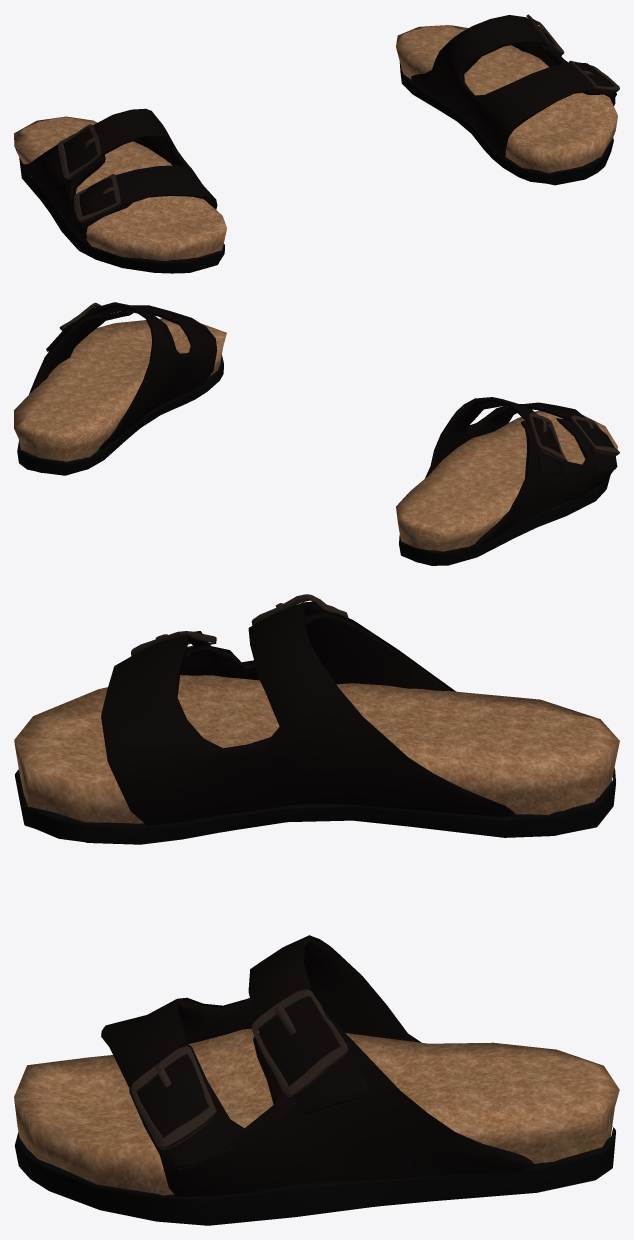
Rendered from v3_phr_male_UA_shoes_sandals_birkenstock_black.glb.
3 views of the same model, one above another, from view 1: azimuth 30°, elevation 25°; view 2: azimuth 150°, elevation 25°; view 3: azimuth 270°, elevation 25° (orthographic). The views are drawn at different scales.
Visible parts, largest first — view 1: UnionAvatars_Shoes; view 2: UnionAvatars_Shoes; view 3: UnionAvatars_Shoes.
Boxes of the visible parts, box(x1,y1,x2,y2) form: UnionAvatars_Shoes: box(14, 14, 619, 273); UnionAvatars_Shoes: box(14, 302, 619, 565); UnionAvatars_Shoes: box(14, 594, 619, 1225).
Size of the model in its own units: 0.5033 by 0.0998 by 0.2586.
1 material, 1 textured.
